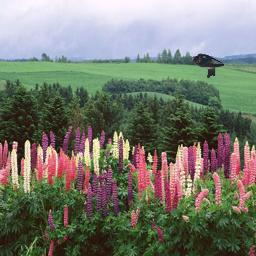Swallow: (191, 53, 224, 78)
